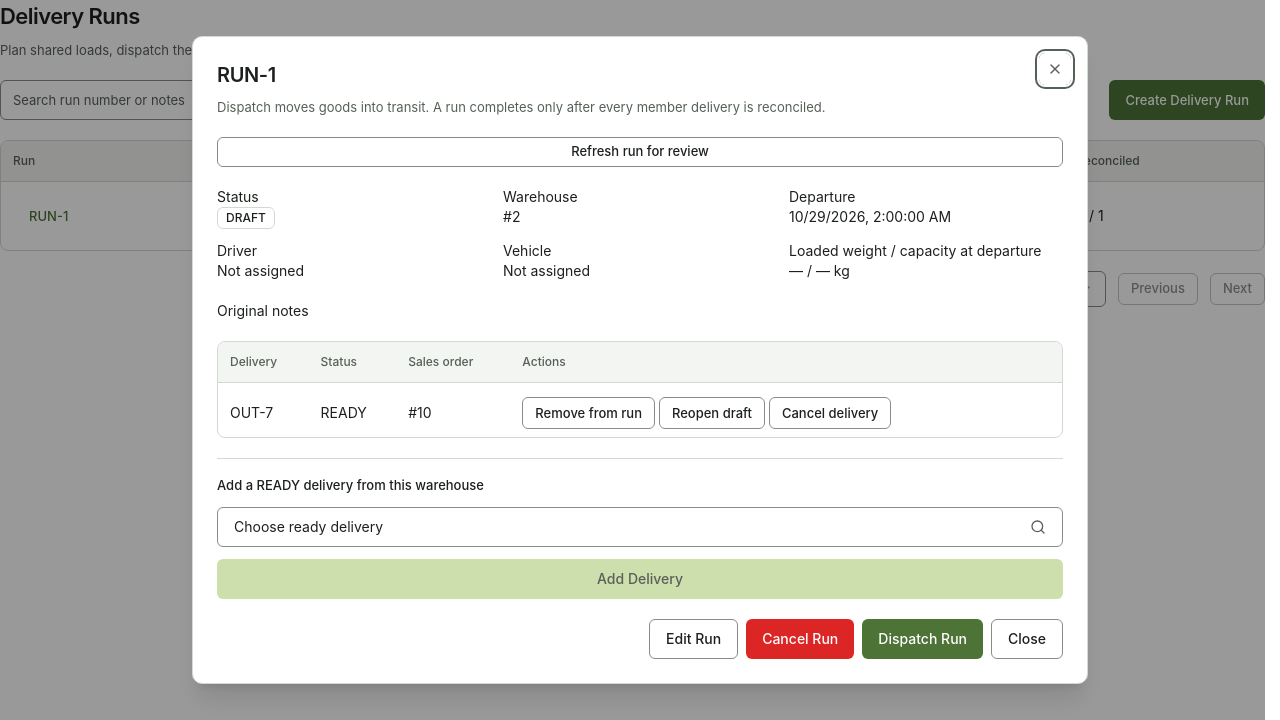
Test: edits the reviewed draft revision without closing on a stale write
Click the button "Edit Run" at (694, 639), box [649, 619, 738, 659]
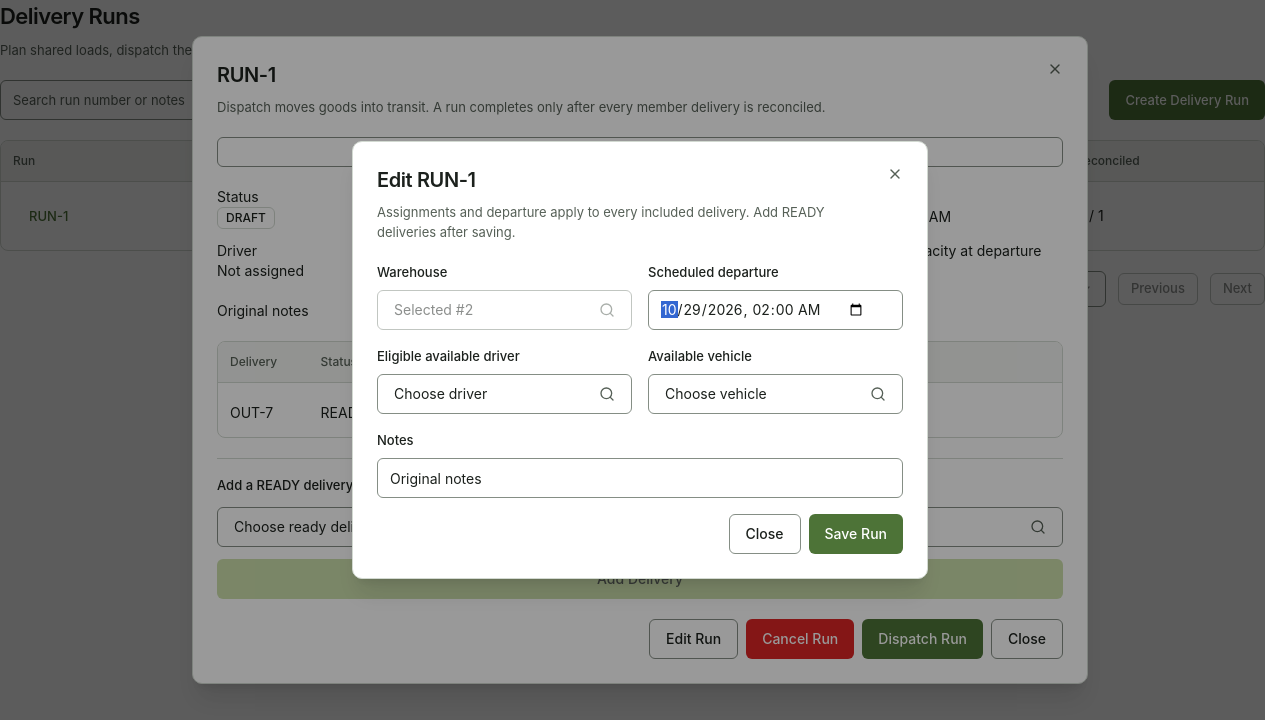
Replace the text in the field labelled "Notes" with "Unsaved loading instructions" at (640, 478), box [377, 458, 903, 498]
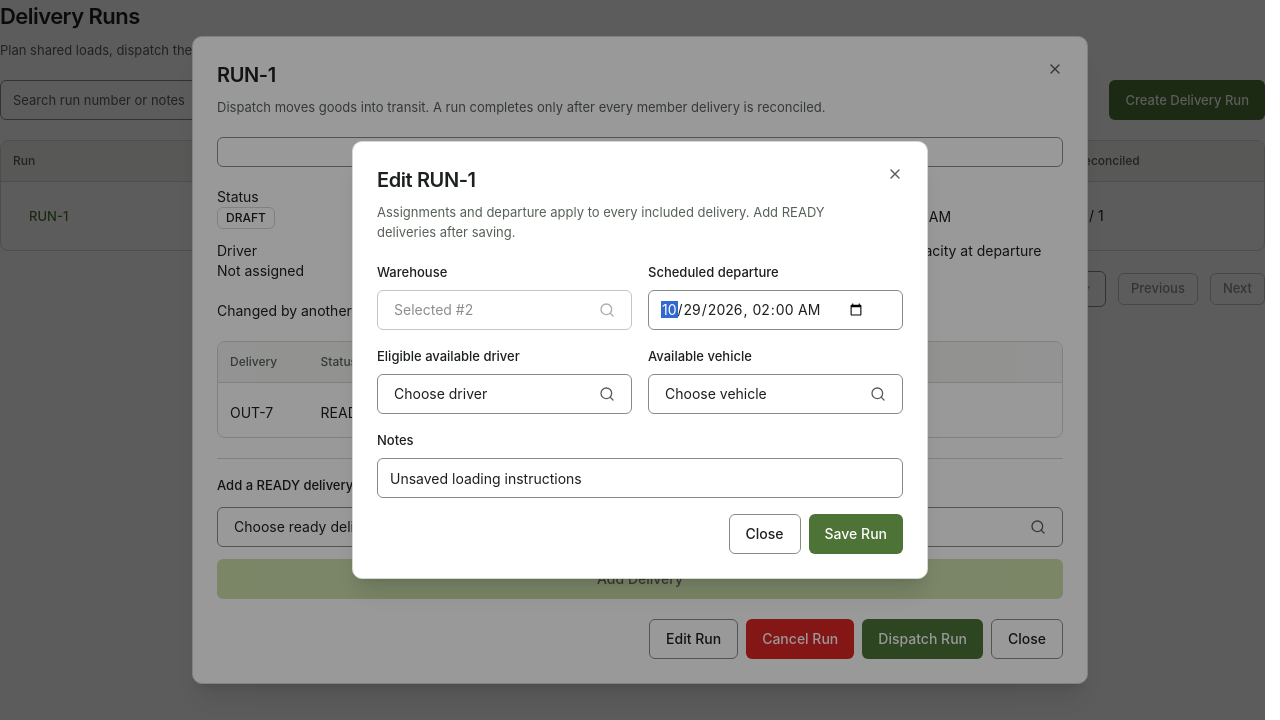
Click the button "Save Run" at (856, 534), box [809, 514, 903, 554]
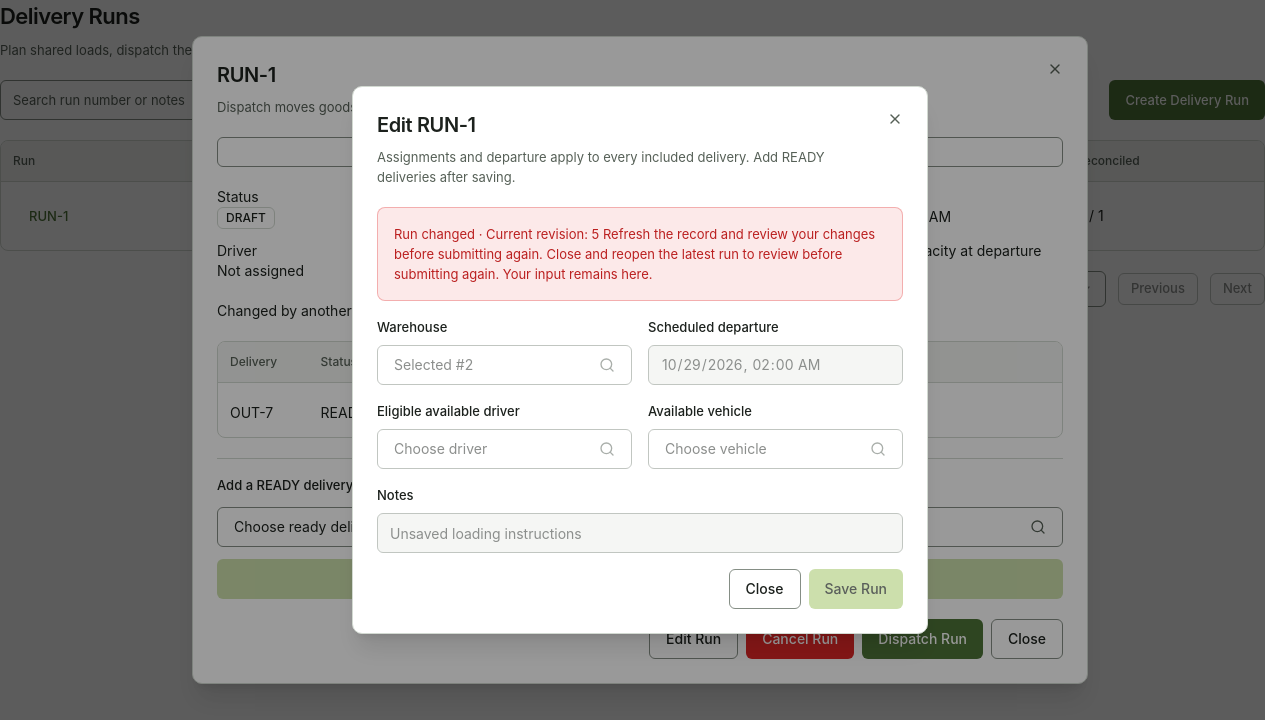
Now the message shows "Run changed", box [394, 226, 875, 262]
Now the button "Save Run" is disabled, box [809, 569, 903, 609]
